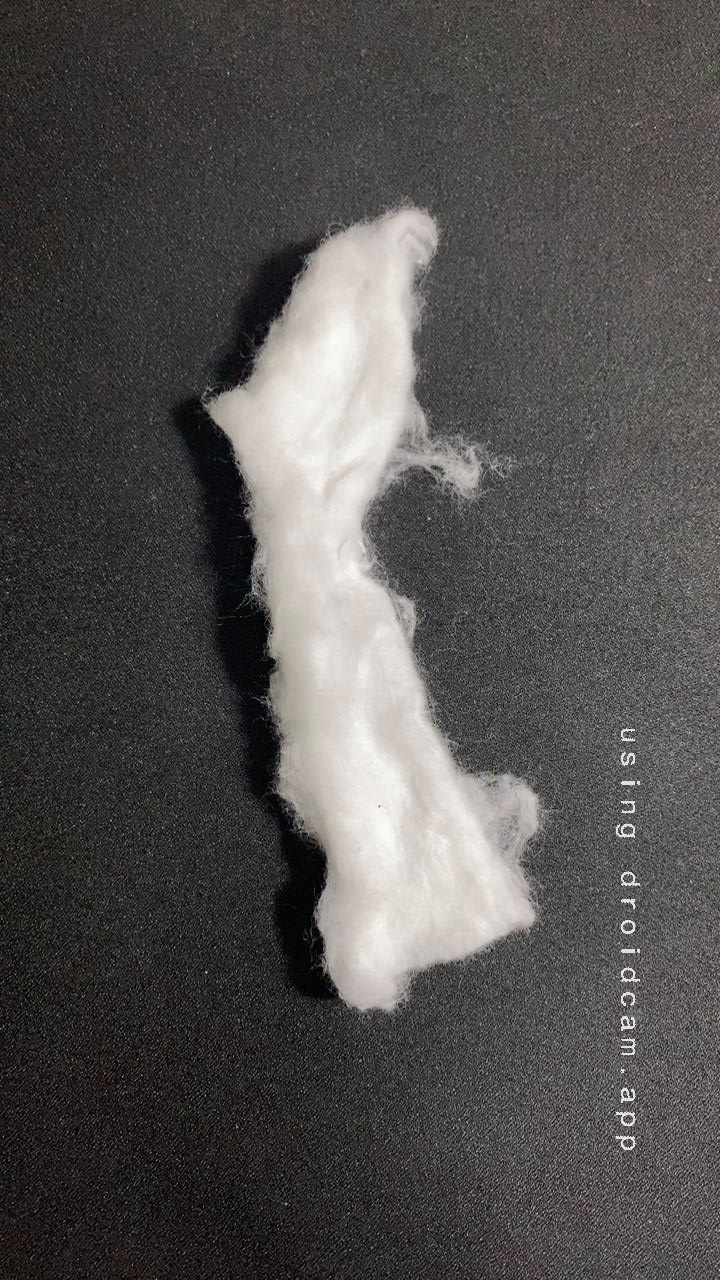cotton: (165, 166, 561, 829)
